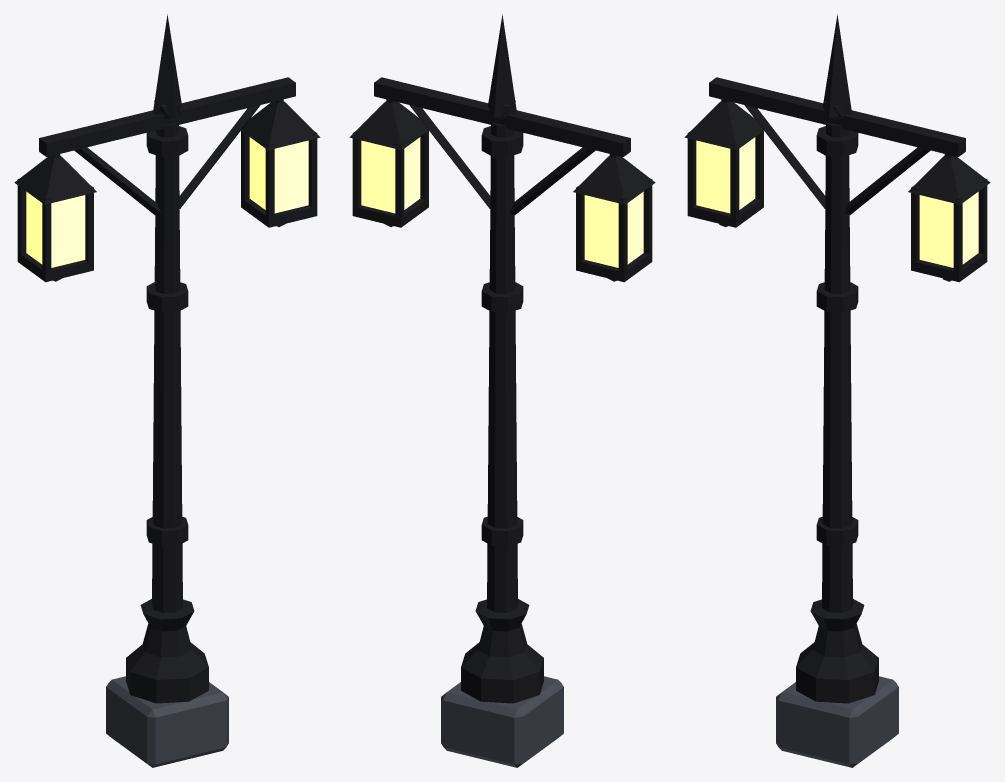
The model's file is gothic_lamp.glb.
3 views of the same model, side by side, from view 1: azimuth 30°, elevation 25°; view 2: azimuth 150°, elevation 25°; view 3: azimuth 330°, elevation 25° (orthographic).
Parts seen in each view (by area): view 1: gothic_lamp; view 2: gothic_lamp; view 3: gothic_lamp.
Part boxes in pixels (x1=…): gothic_lamp: x1=14, y1=14, x2=320, y2=767; gothic_lamp: x1=349, y1=14, x2=655, y2=767; gothic_lamp: x1=684, y1=14, x2=990, y2=767.
Bounding box in the file's own units: 1.48 × 3.75 × 0.44.
